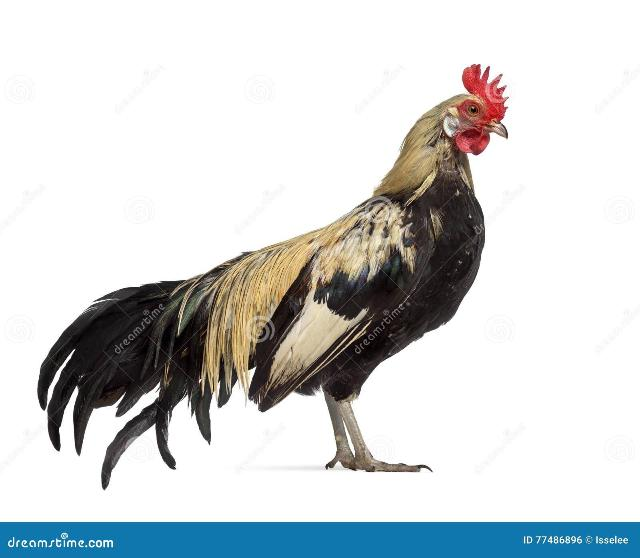Chicken: (39, 64, 509, 490)
